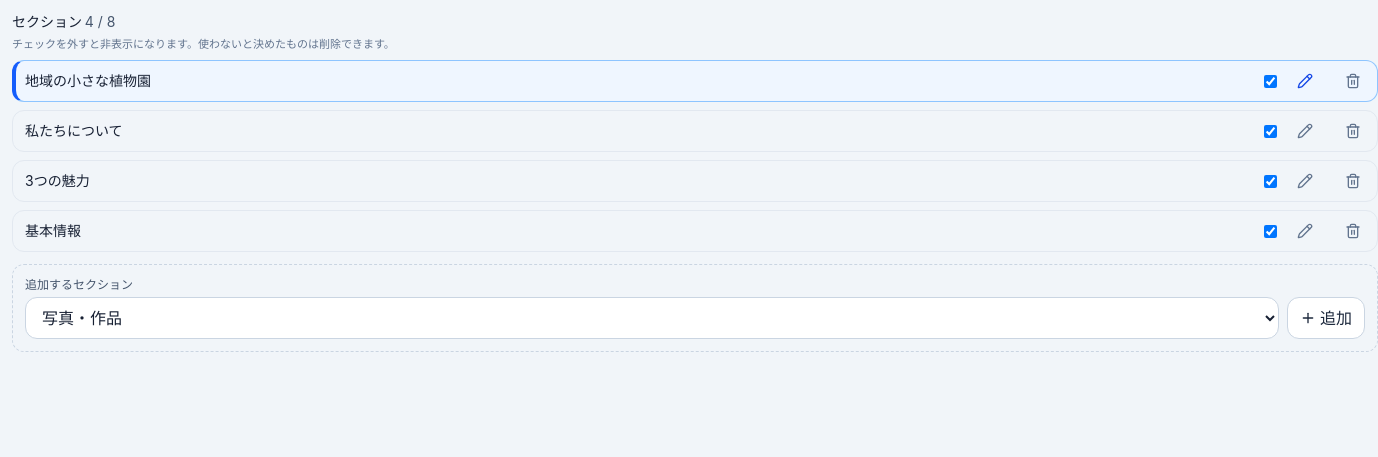
it: SectionList › サイトが差し替わると（revisionが進むと）、開いていた削除の確認を閉じる
This screenshot has width=1378, height=457.
What coordinates should you click on to do the following:
click the button named "を削除"
I would click on:
 (1353, 81)
Its box is x1=1333 y1=61 x2=1373 y2=101.
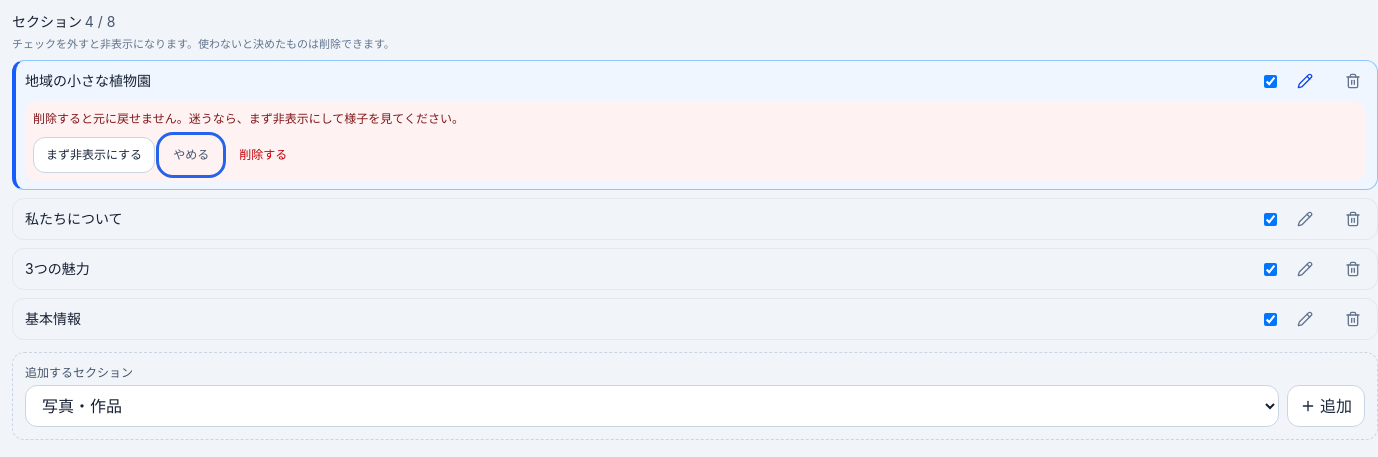
Check: the text "削除すると元に戻せません。迷うなら、まず非表示にして様子を見てください。" is shown, box x1=33 y1=111 x2=464 y2=126
